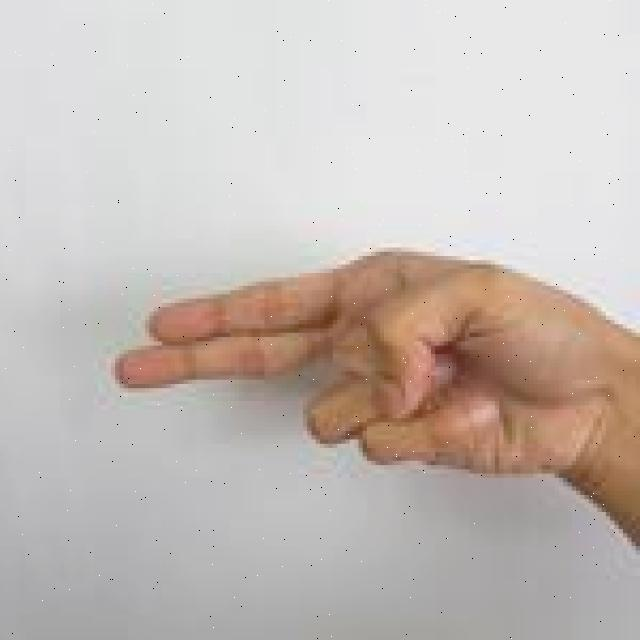H: (105, 242, 640, 562), (107, 243, 640, 555)
